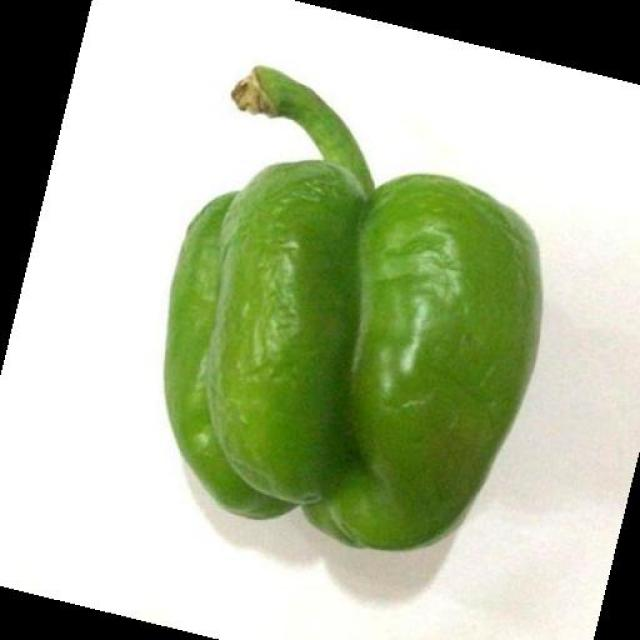Fresh_Capsicum: (146, 68, 543, 572)
